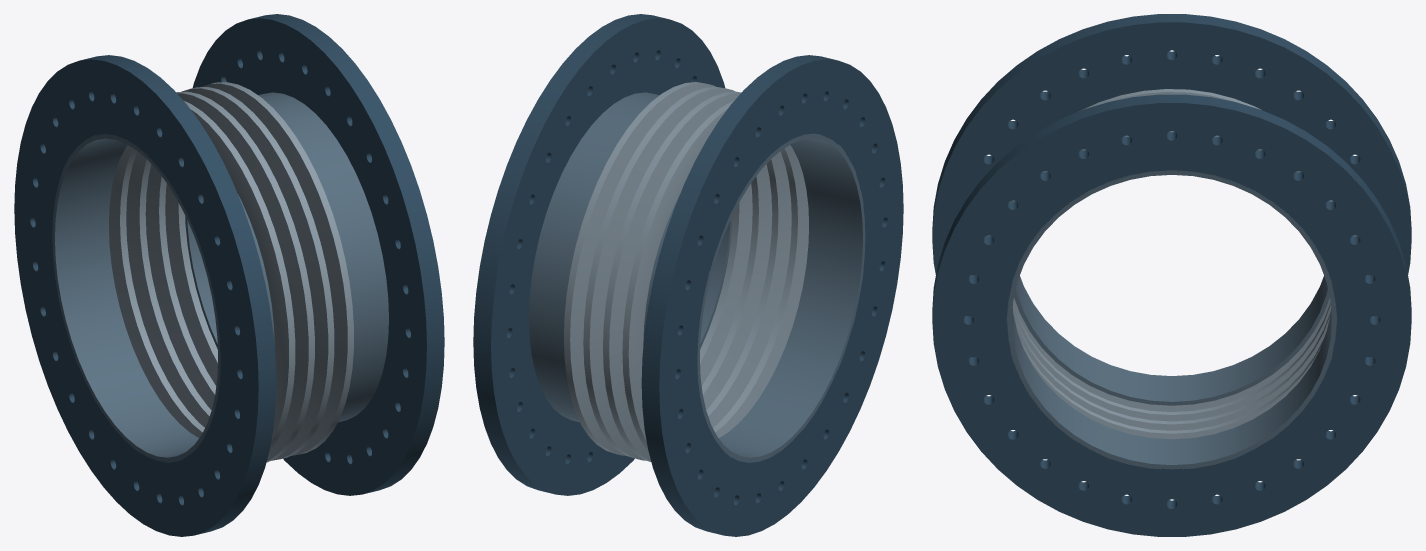
The model's file is flan-dn1000-L650-D1020-f.glb.
The picture shows the model from 3 angles, left to right: view 1: azimuth 30°, elevation 25°; view 2: azimuth 150°, elevation 25°; view 3: azimuth 270°, elevation 25°; orthographic projection.
Parts seen in each view (by area): view 1: homut_flanec_1, prokladka_silfon_1, homut_flanec_2, patrubok_1, patrubok_2; view 2: homut_flanec_1, prokladka_silfon_1, homut_flanec_2, patrubok_1, patrubok_2; view 3: homut_flanec_2, homut_flanec_1, patrubok_2, prokladka_silfon_1, patrubok_1.
Part boxes in pixels (box(x1,y1,x2,y2)): homut_flanec_1: box(14, 55, 276, 536); prokladka_silfon_1: box(109, 82, 353, 462); homut_flanec_2: box(192, 14, 444, 495); patrubok_1: box(52, 133, 274, 462); patrubok_2: box(185, 92, 388, 422); homut_flanec_1: box(641, 55, 903, 536); prokladka_silfon_1: box(564, 82, 808, 461); homut_flanec_2: box(473, 14, 725, 495); patrubok_1: box(643, 133, 865, 462); patrubok_2: box(529, 92, 732, 422); homut_flanec_2: box(932, 94, 1411, 536); homut_flanec_1: box(932, 14, 1411, 357); patrubok_2: box(1006, 170, 1337, 469); prokladka_silfon_1: box(987, 89, 1356, 439); patrubok_1: box(1014, 276, 1329, 405).
Size of the model in its own units: 650 by 1477 by 1479.
